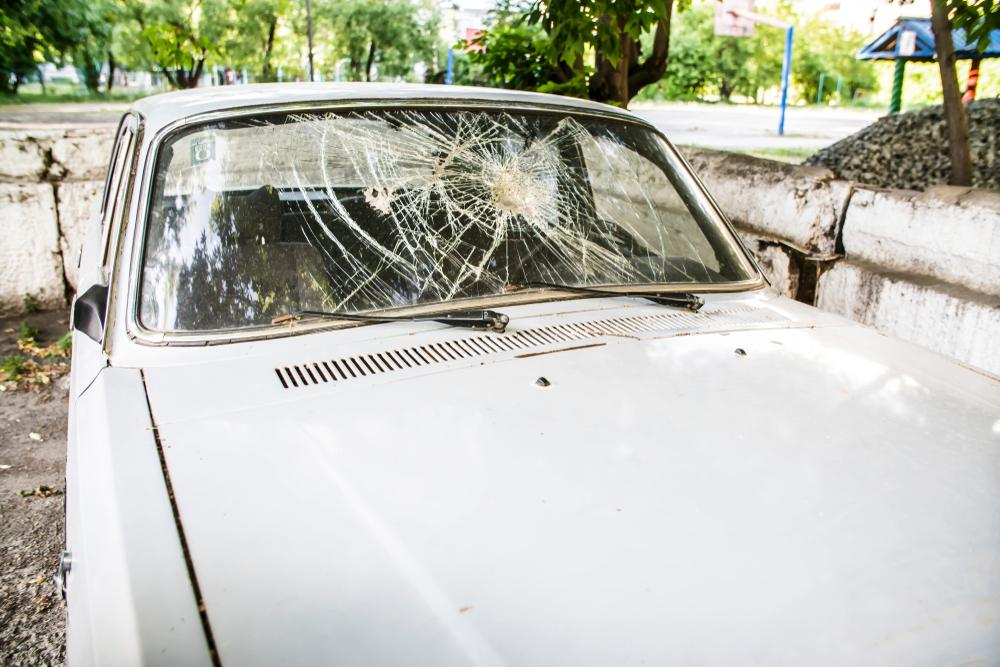glass shatter: (139, 107, 757, 331)
